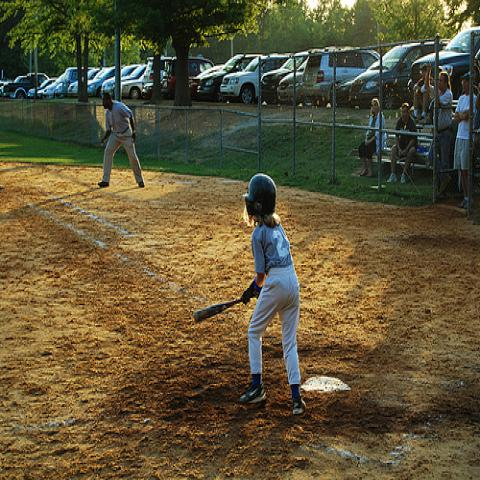car: (13, 26, 479, 109), (350, 42, 449, 110), (301, 46, 380, 106), (220, 55, 288, 107), (277, 58, 307, 106), (102, 64, 142, 99), (54, 66, 96, 98), (3, 73, 50, 98), (66, 67, 102, 97), (88, 68, 116, 98), (121, 70, 145, 101), (38, 73, 64, 98), (28, 78, 58, 97)
